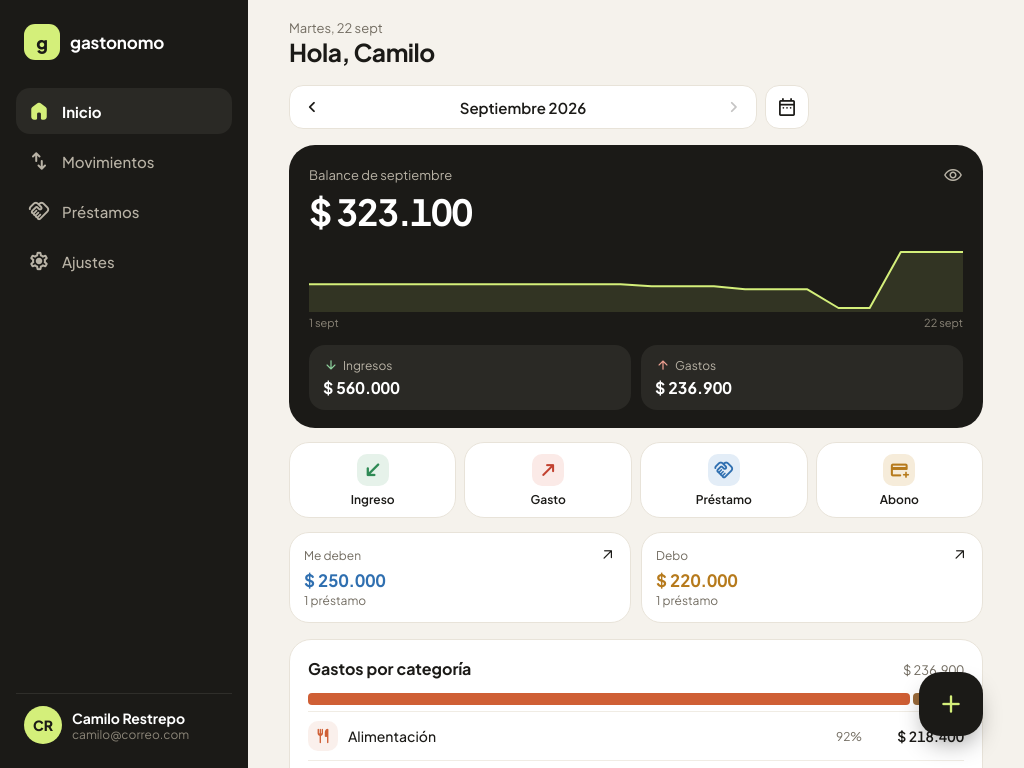
it: App › las cuatro pestanas llevan a sus pantallas
Click the link "Movimientos" at (91, 161), box [28,148,154,174]
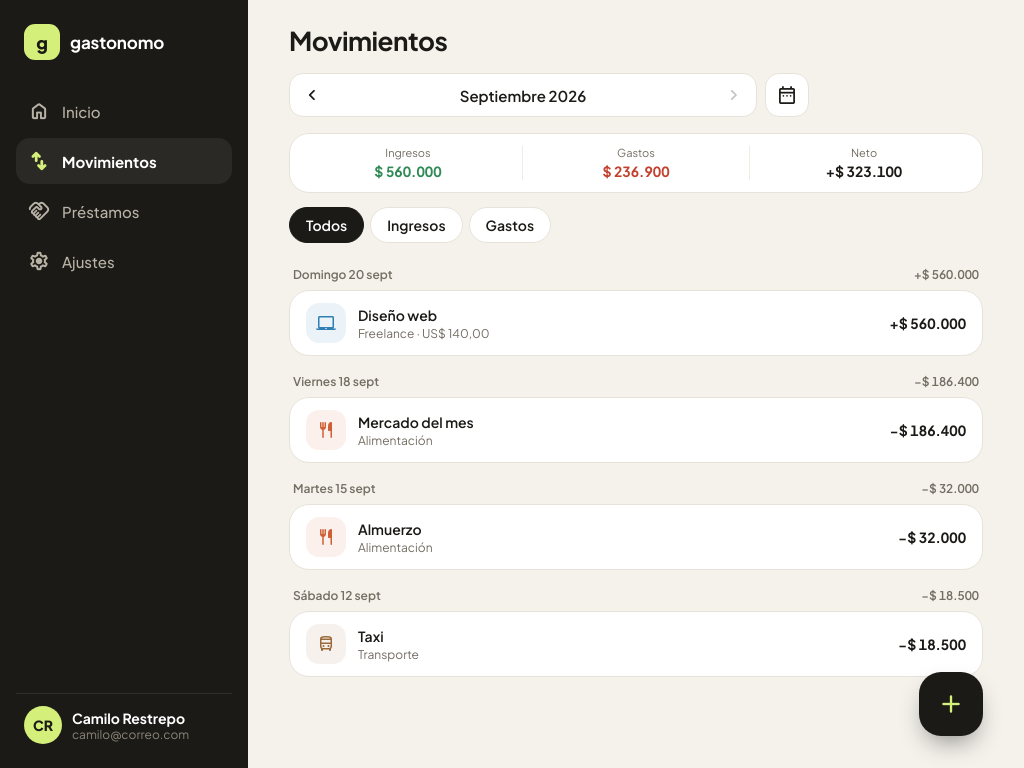
Now the heading "Movimientos" is shown, box [289,24,447,57]
Click the link "Préstamos" at (84, 211), box [28,198,139,224]
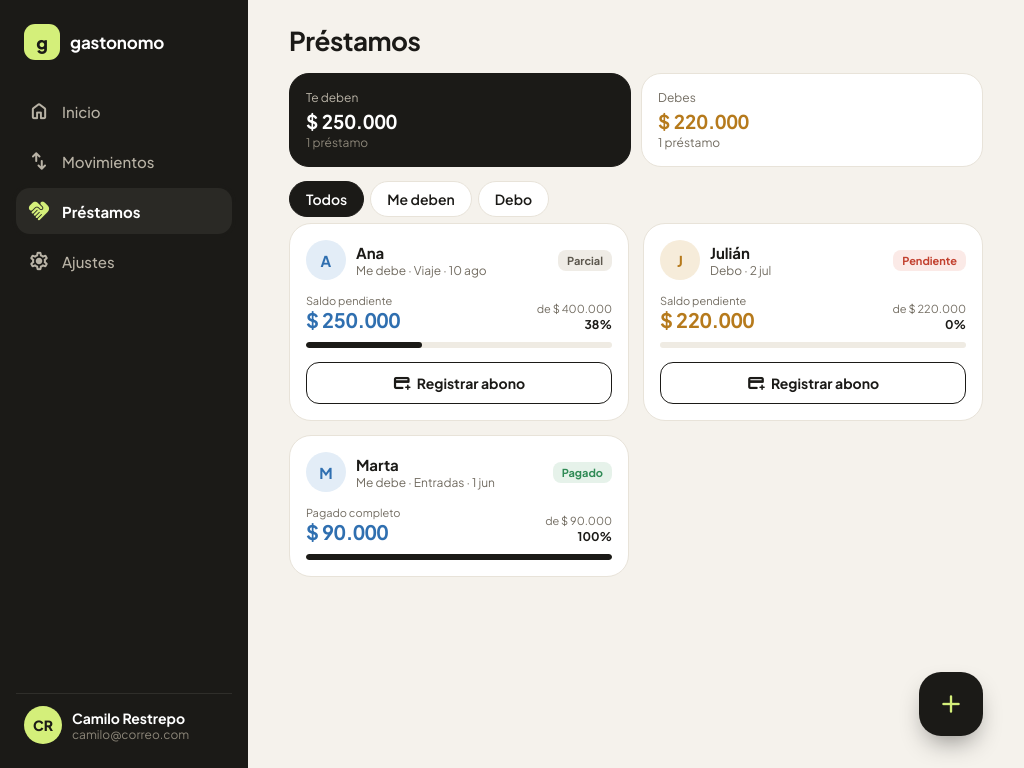
Now the heading "Préstamos" is shown, box [289,24,420,57]
Click the link "Ajustes" at (71, 261), box [28,248,115,274]
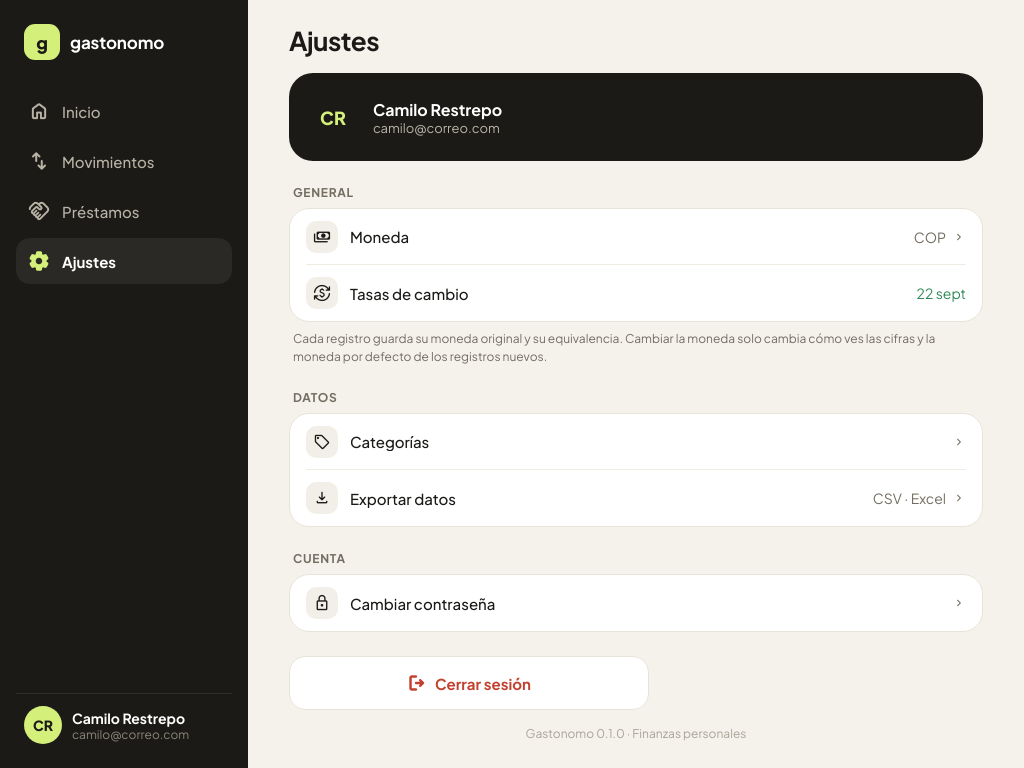
Now the heading "Ajustes" is shown, box [289,24,379,57]
